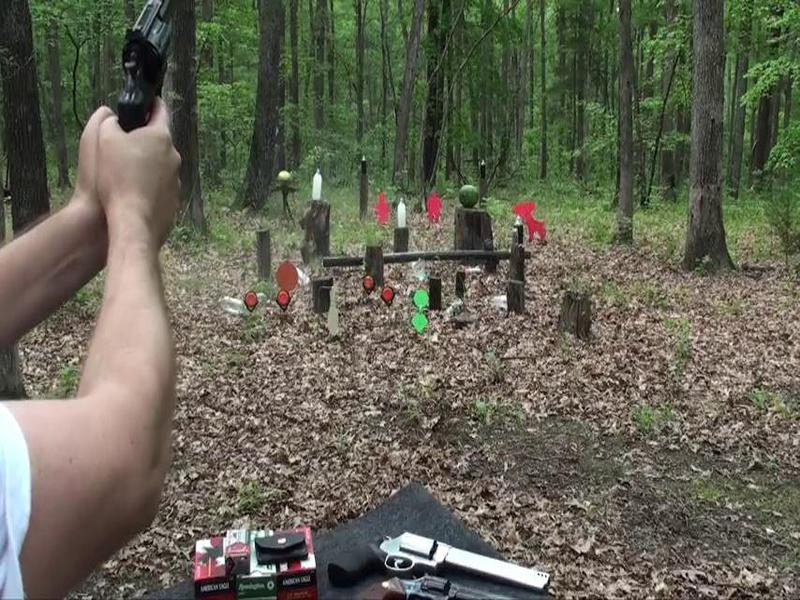Revolver: (95, 1, 193, 163)
